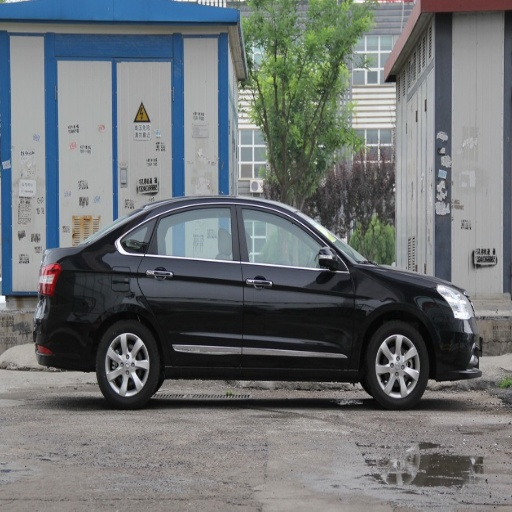back_right_door: (137, 200, 243, 364)
front_right_door: (236, 202, 354, 365)
